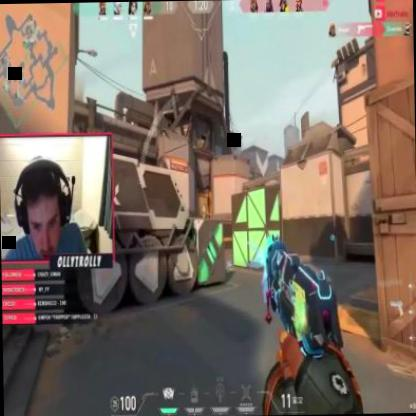enemy: (202, 203, 204, 219)
enemy_head: (202, 203, 204, 207)
